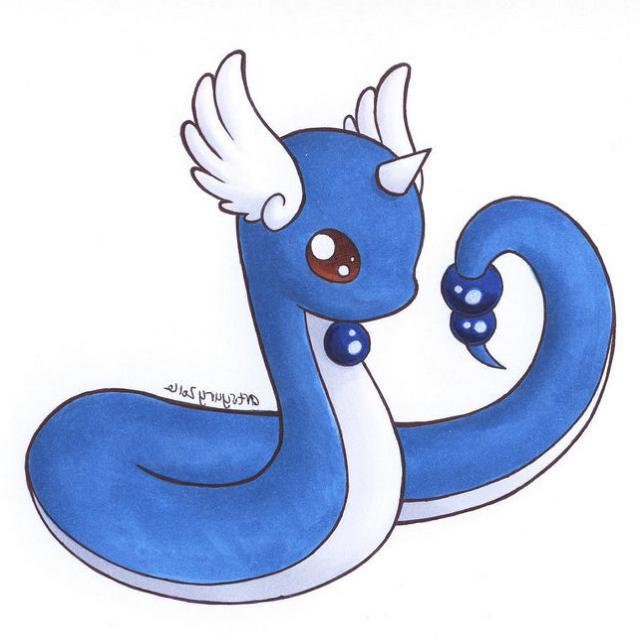Dragonair: (131, 52, 507, 596)
